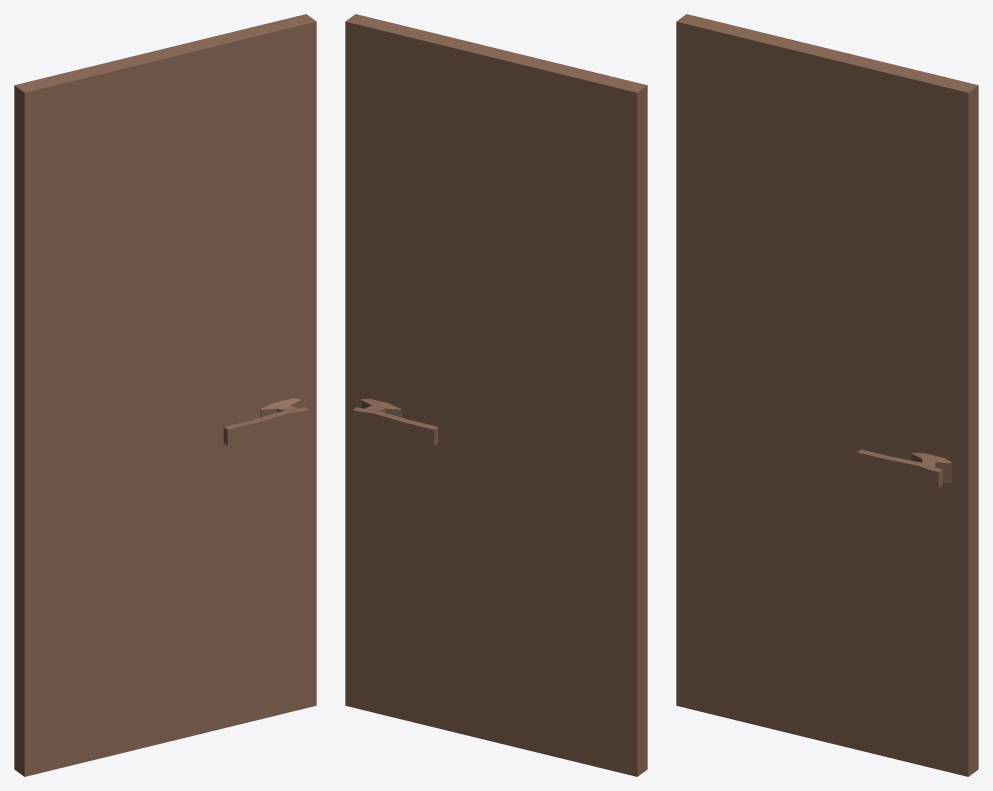
The model's file is Door.fbx.
The picture shows the model from 3 angles, left to right: view 1: azimuth 30°, elevation 25°; view 2: azimuth 150°, elevation 25°; view 3: azimuth 330°, elevation 25°; orthographic projection.
Parts seen in each view (by area): view 1: Office wall.004; view 2: Office wall.004; view 3: Office wall.004.
Boxes of the visible parts, x1,y1,x2,y2 form: Office wall.004: [14, 14, 316, 776]; Office wall.004: [345, 14, 647, 776]; Office wall.004: [676, 14, 978, 776].
Size of the model in its own units: 112 by 251 by 21.62.
